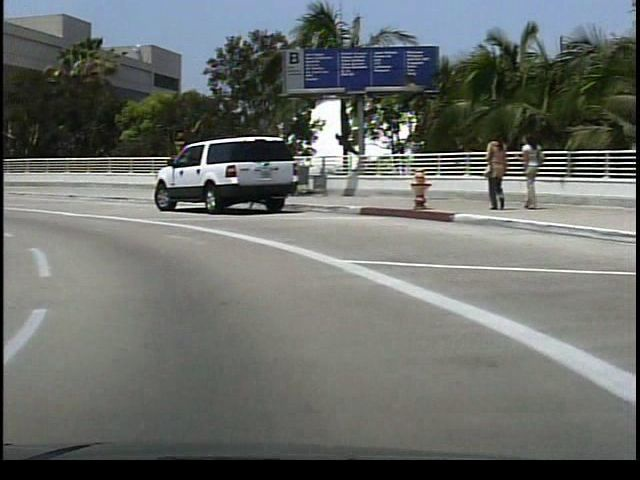person: (476, 128, 502, 216), (510, 131, 538, 212)
